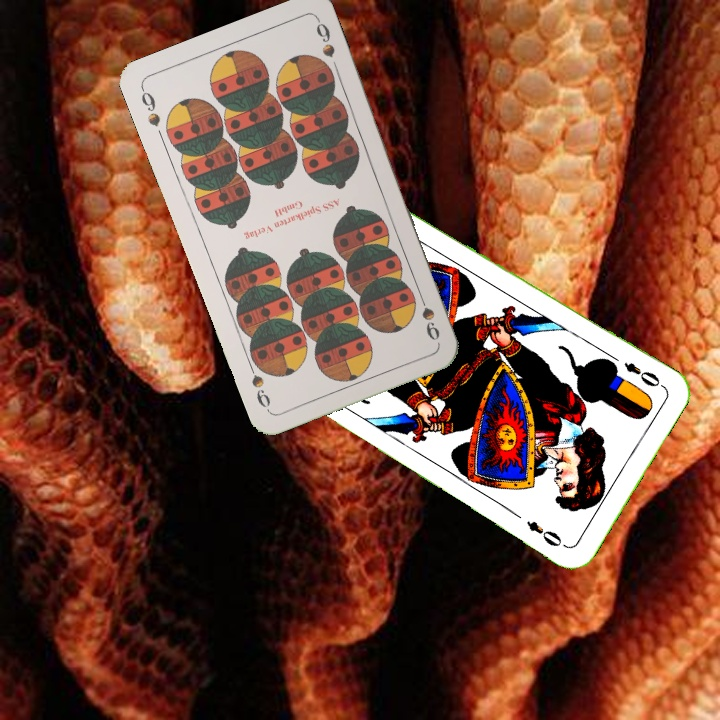EO: (619, 358, 667, 391)
S9: (414, 287, 443, 343), (137, 83, 164, 130)
